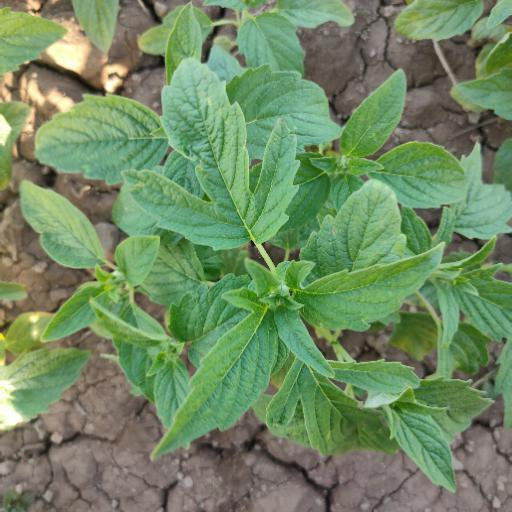crop: (28, 6, 507, 489)
